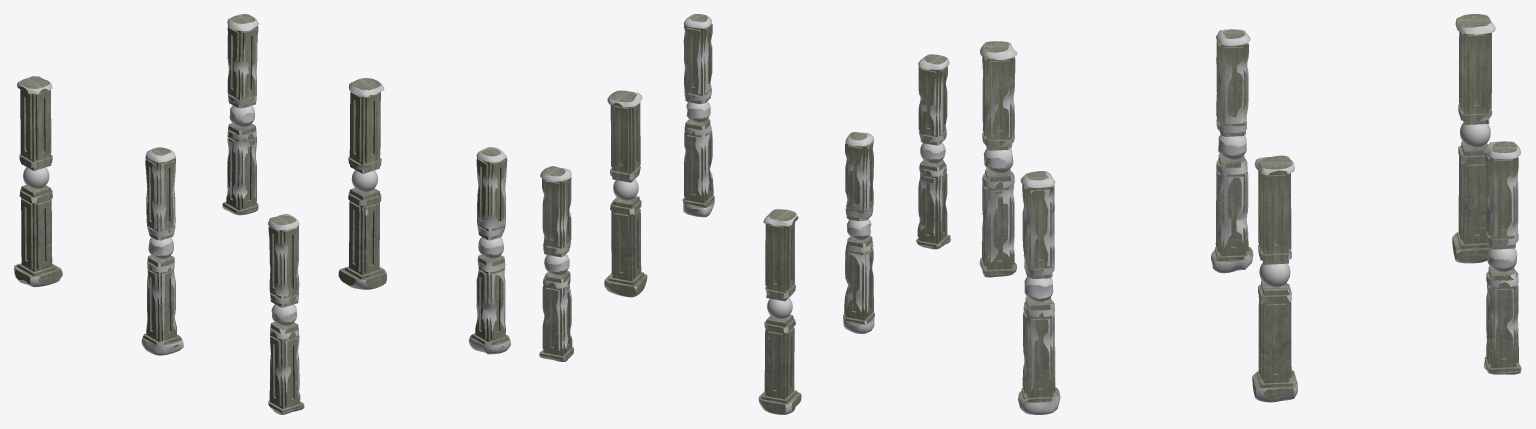
Rendered from SM_Corridor_02_08.fbx.
The picture shows the model from 3 angles, left to right: view 1: azimuth 30°, elevation 25°; view 2: azimuth 150°, elevation 25°; view 3: azimuth 270°, elevation 25°; orthographic projection. The views are drawn at different scales.
Visible parts, largest first — view 1: SM_Corridor_02_08; view 2: SM_Corridor_02_08; view 3: SM_Corridor_02_08.
Part boxes in pixels (x1,y1,x2,y2): SM_Corridor_02_08: [14, 14, 510, 414]; SM_Corridor_02_08: [539, 14, 950, 414]; SM_Corridor_02_08: [979, 14, 1521, 414].
Bounding box in the file's own units: 944 × 594 × 1252.
